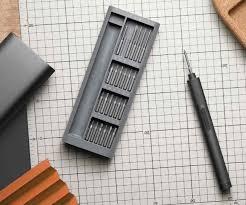screwdriver: (185, 71, 233, 194)
